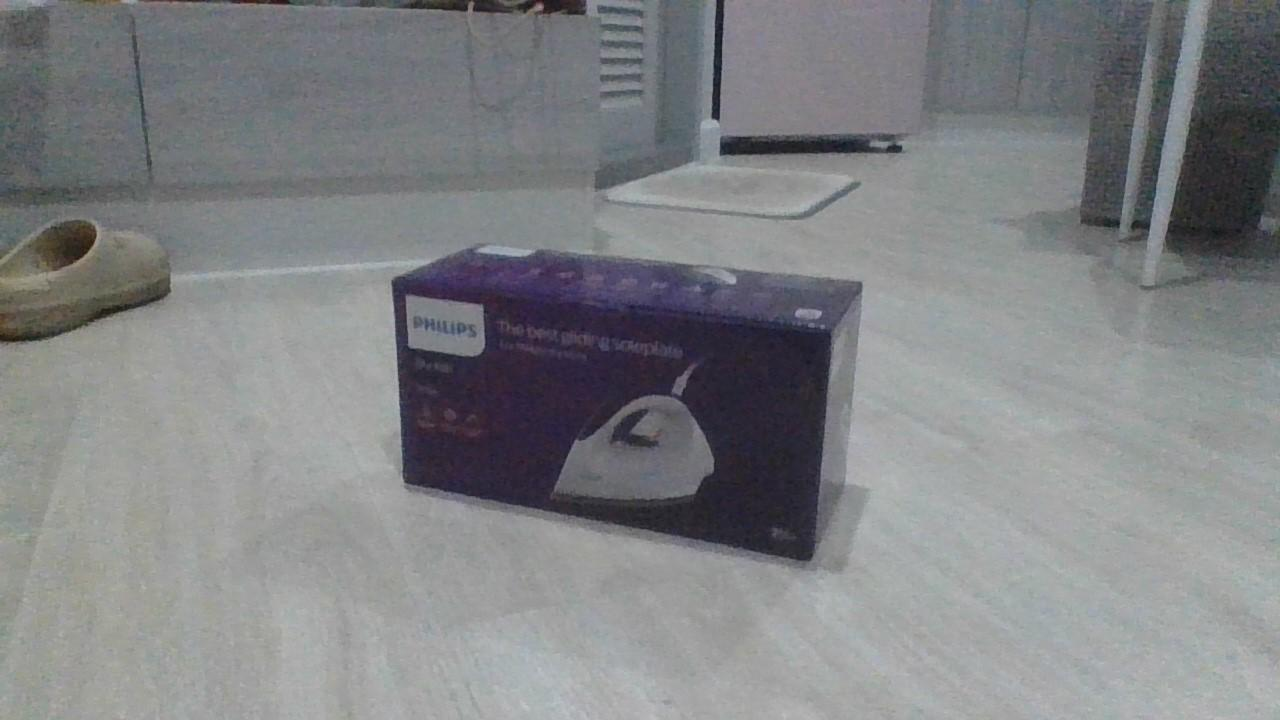IRON: (385, 237, 867, 567)
